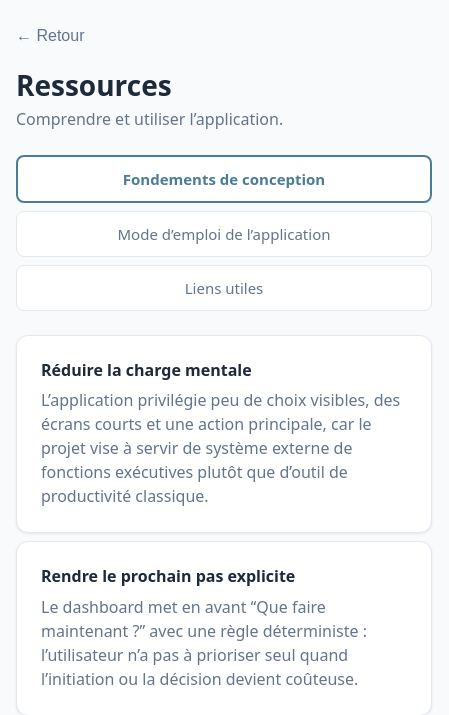
Test: E120Resources › affiche le mode d’emploi de l’application
Click the button "Mode d’emploi de l’application" at x=224, y=234, box x1=16 y1=211 x2=432 y2=257
(page scrolled)
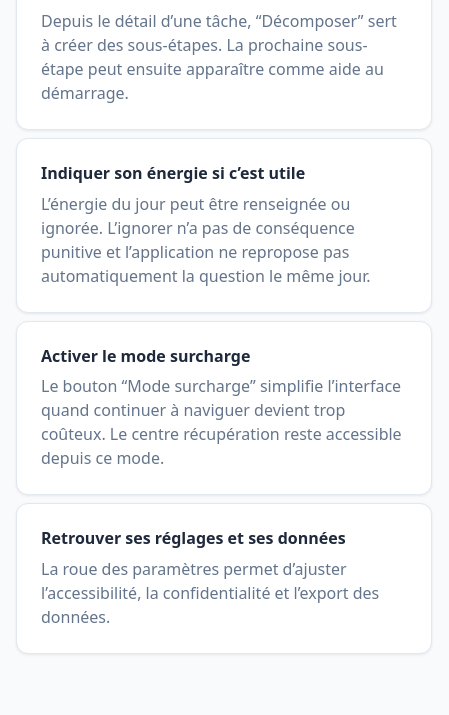
Result: the heading "Activer le mode surcharge" is shown at x1=41 y1=345 x2=250 y2=367
